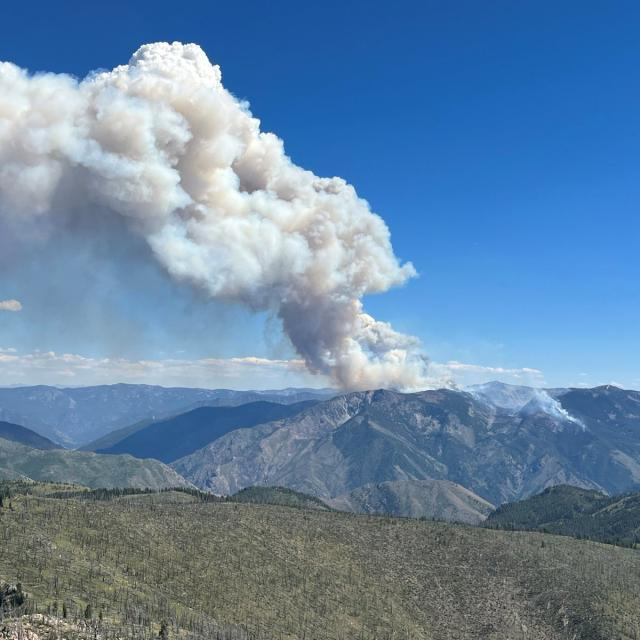Smoke: (0, 36, 414, 396)
